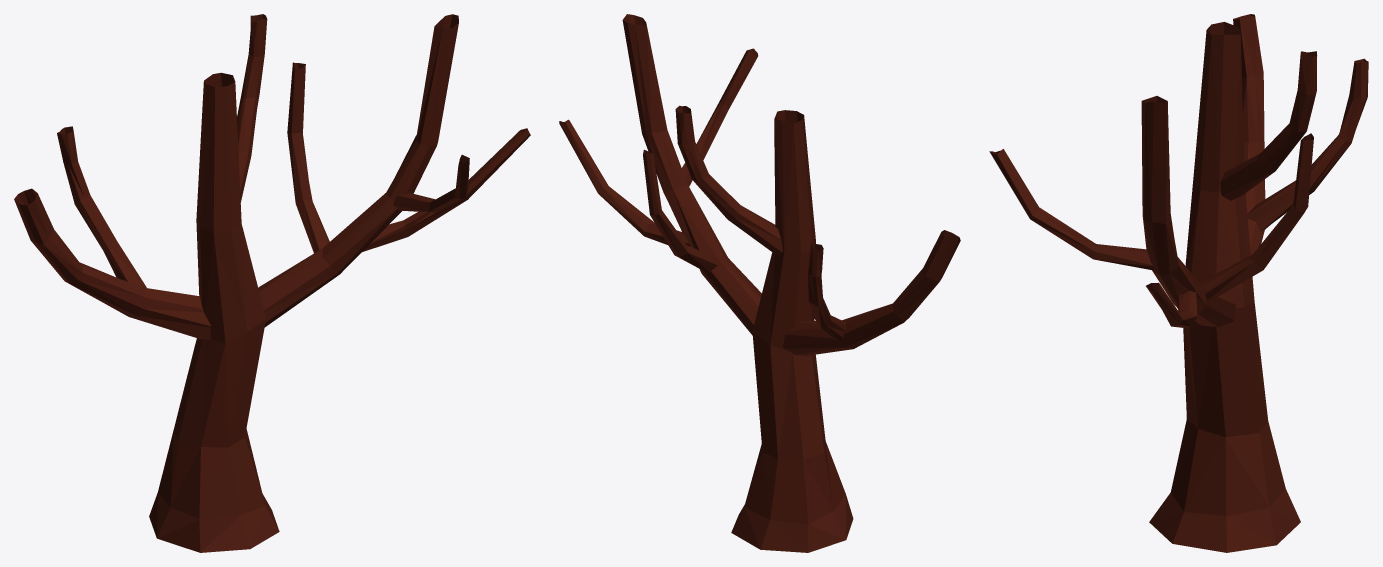
Rendered from TREE._1obj.obj.
The picture shows the model from 3 angles, left to right: view 1: azimuth 30°, elevation 25°; view 2: azimuth 150°, elevation 25°; view 3: azimuth 270°, elevation 25°; orthographic projection. The views are drawn at different scales.
Visible parts, largest first — view 1: Tree.032; view 2: Tree.032; view 3: Tree.032.
Part boxes in pixels (<box>): Tree.032: <box>14,14,530,552</box>; Tree.032: <box>559,14,960,552</box>; Tree.032: <box>989,14,1368,552</box>.
Size of the model in its own units: 5.16 by 5.01 by 3.21.
